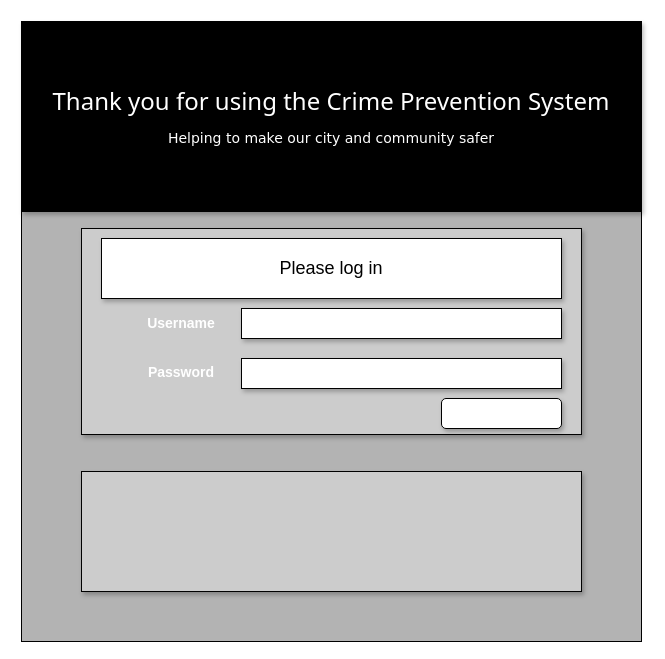
This 665x659 diagram has some shape labels left out. Each missing label, with the centre of its shape:
"No login? Register here" belongs at [332,532].
"Submit" belongs at [502,415].
